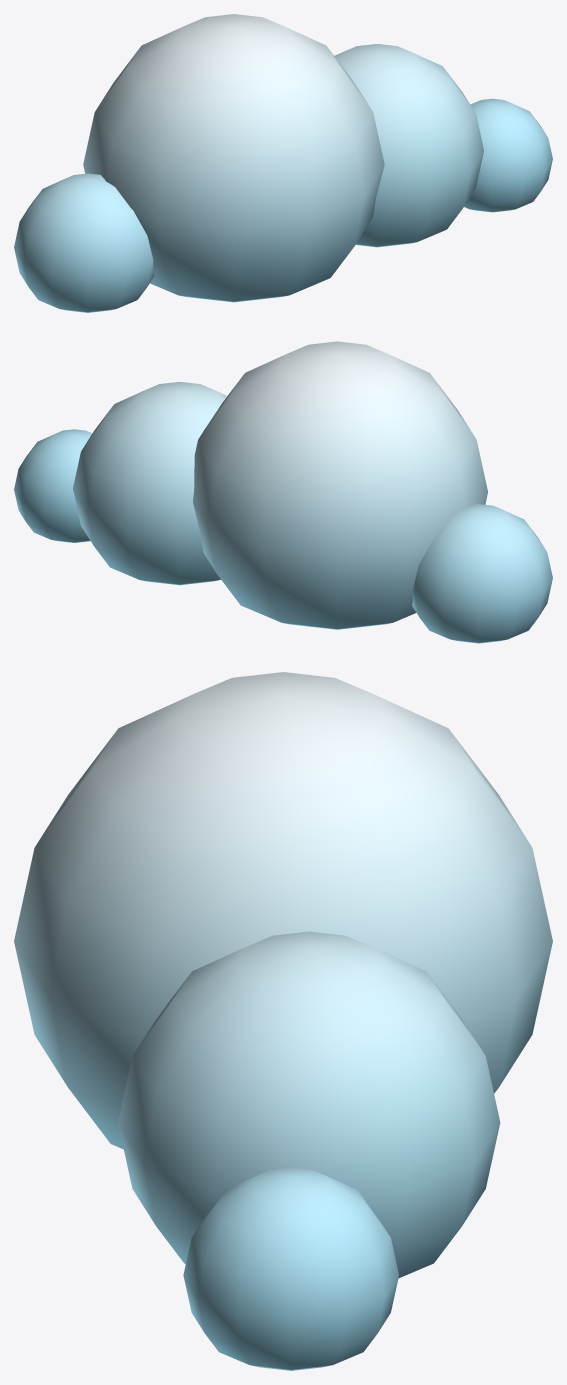
The model's file is Cloud_02.fbx.
3 renders of one model, top to bottom at view 1: azimuth 30°, elevation 25°; view 2: azimuth 150°, elevation 25°; view 3: azimuth 270°, elevation 25°, orthographic. The views are drawn at different scales.
Visible parts, largest first — view 1: Cloud_02; view 2: Cloud_02; view 3: Cloud_02.
Boxes of the visible parts, x1=… form: Cloud_02: x1=14, y1=14, x2=552, y2=312; Cloud_02: x1=14, y1=341, x2=552, y2=643; Cloud_02: x1=14, y1=672, x2=552, y2=1370.
Bounding box in the file's own units: 399 × 172 × 200.
